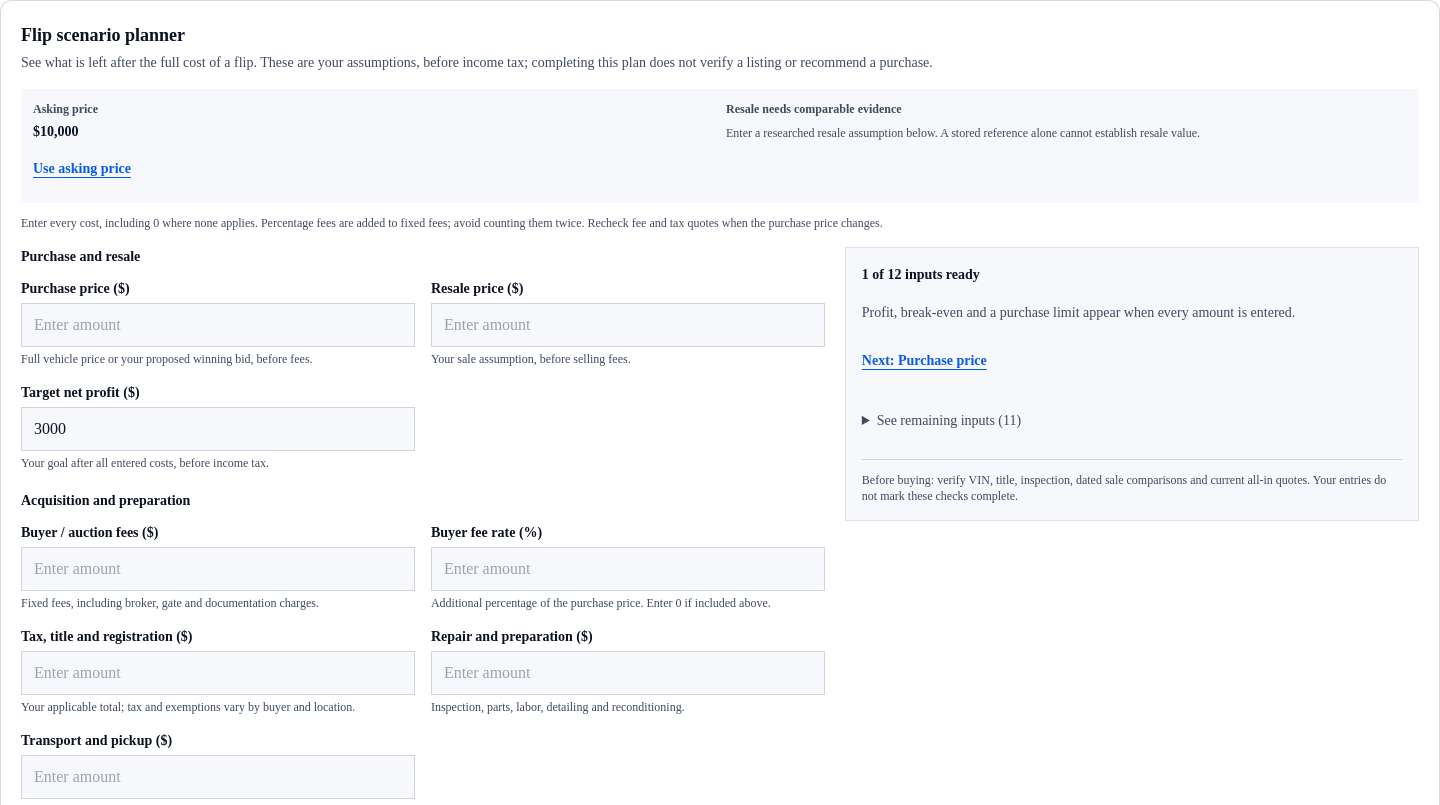
Test: flip scenario planner › starts with unknown costs and copies a cash price only on request
This screenshot has width=1440, height=805.
Expected: the field labelled "Purchase price ($)" is empty, [21, 303, 415, 347]
Click the button "Use asking price".
click(82, 169)  # box [33, 147, 131, 191]
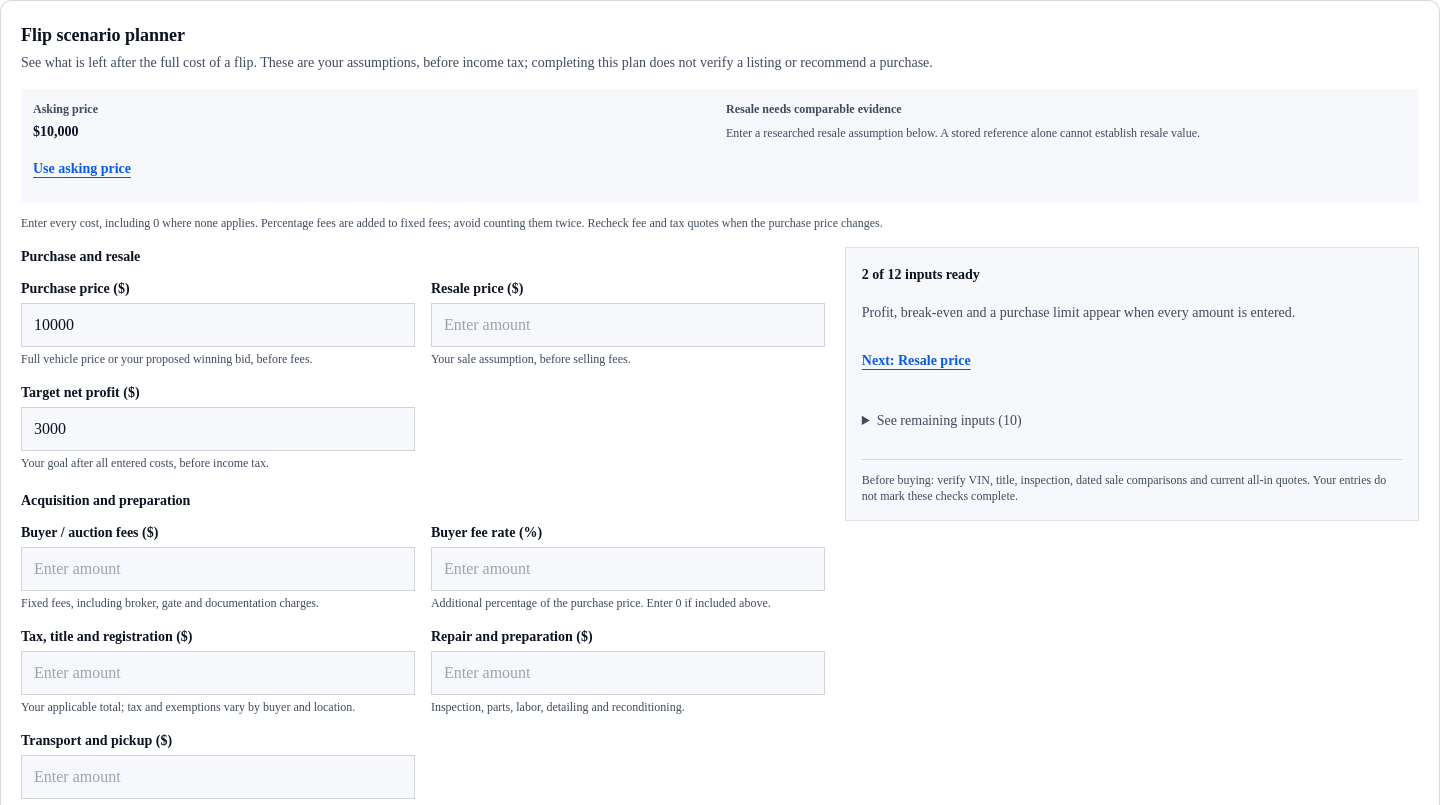
Expected: the text "Resale needs comparable evidence" is shown, [726, 102, 902, 116]
Expected: the field labelled "Purchase price ($)" holds "10000", [21, 303, 415, 347]
